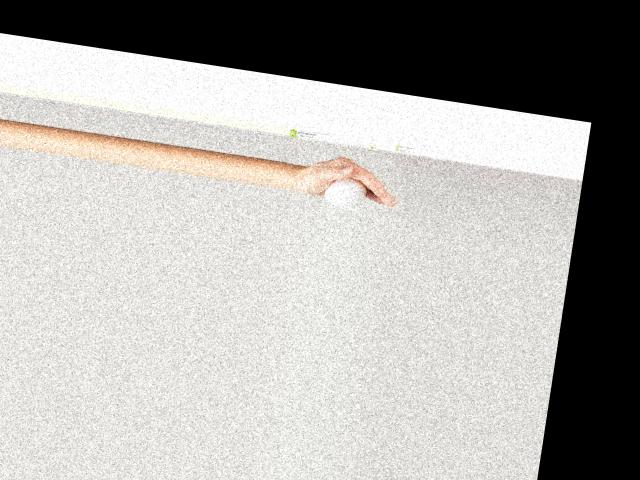egg: (323, 174, 369, 208)
